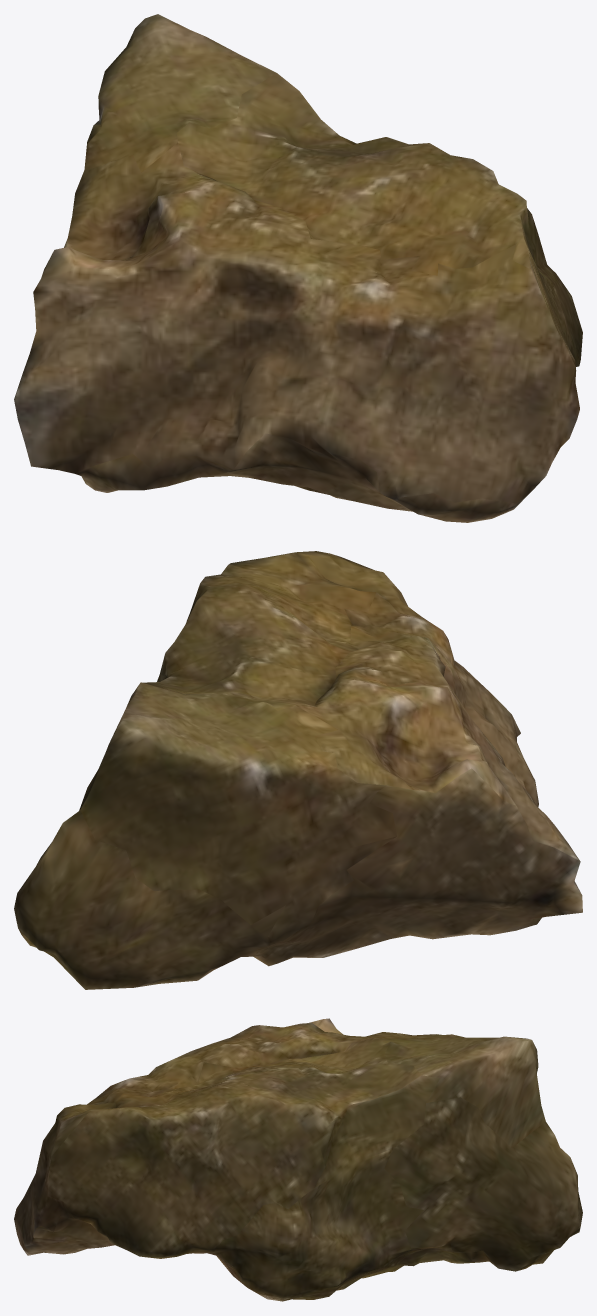
Rendered from SM_RockMoss_A06.gltf.
3 views of the same model, one above another, from view 1: azimuth 30°, elevation 25°; view 2: azimuth 150°, elevation 25°; view 3: azimuth 270°, elevation 25° (orthographic). The views are drawn at different scales.
Parts seen in each view (by area): view 1: SM_RockMoss_A06; view 2: SM_RockMoss_A06; view 3: SM_RockMoss_A06.
Part boxes in pixels (box(x1,y1,x2,y2)): SM_RockMoss_A06: box(14, 14, 582, 522); SM_RockMoss_A06: box(14, 551, 582, 989); SM_RockMoss_A06: box(14, 1018, 582, 1301).
Size of the model in its own units: 2.13 by 1.26 by 2.76.
Materials: 1 (1 with a texture image).
